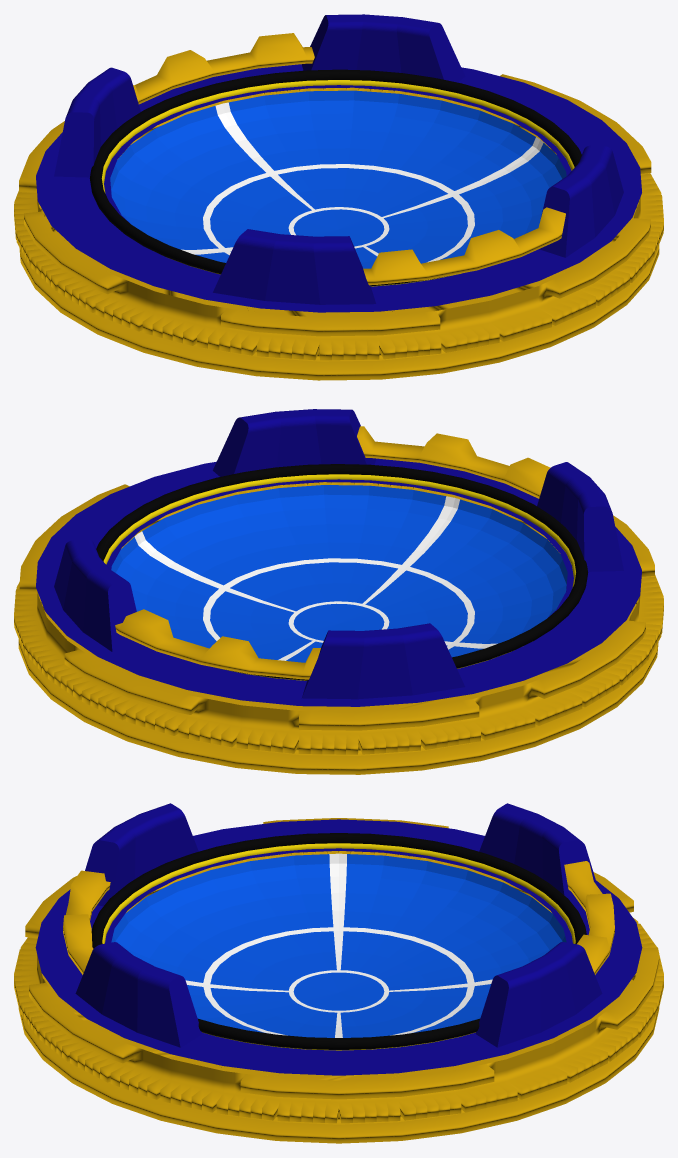
The model's file is GameStadium(2).fbx.
3 views of the same model, one above another, from view 1: azimuth 30°, elevation 25°; view 2: azimuth 150°, elevation 25°; view 3: azimuth 270°, elevation 25° (orthographic).
Parts seen in each view (by area): view 1: Sphere.001; view 2: Sphere.001; view 3: Sphere.001.
Part boxes in pixels (bbox=[...]): Sphere.001: bbox=[14, 14, 663, 380]; Sphere.001: bbox=[14, 409, 663, 774]; Sphere.001: bbox=[14, 803, 663, 1143].
Size of the model in its own units: 280 by 55.02 by 280.
